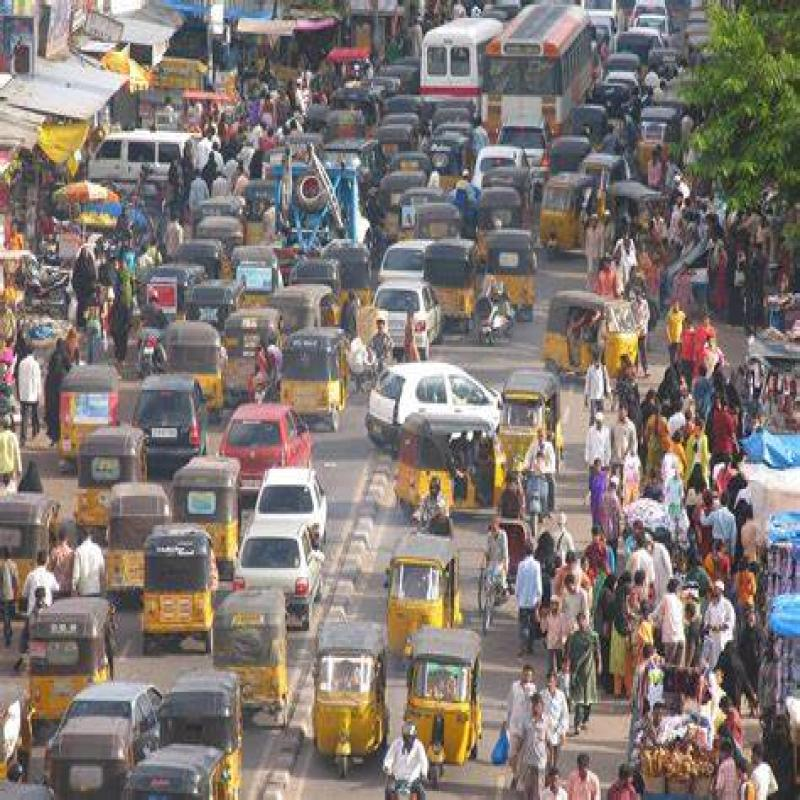car: (370, 363, 495, 451), (134, 372, 219, 486), (231, 395, 321, 490), (256, 451, 336, 546), (235, 535, 325, 612), (378, 274, 441, 362)
